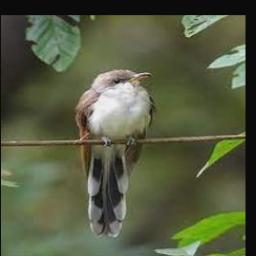Cuckoo: (75, 69, 158, 239)
